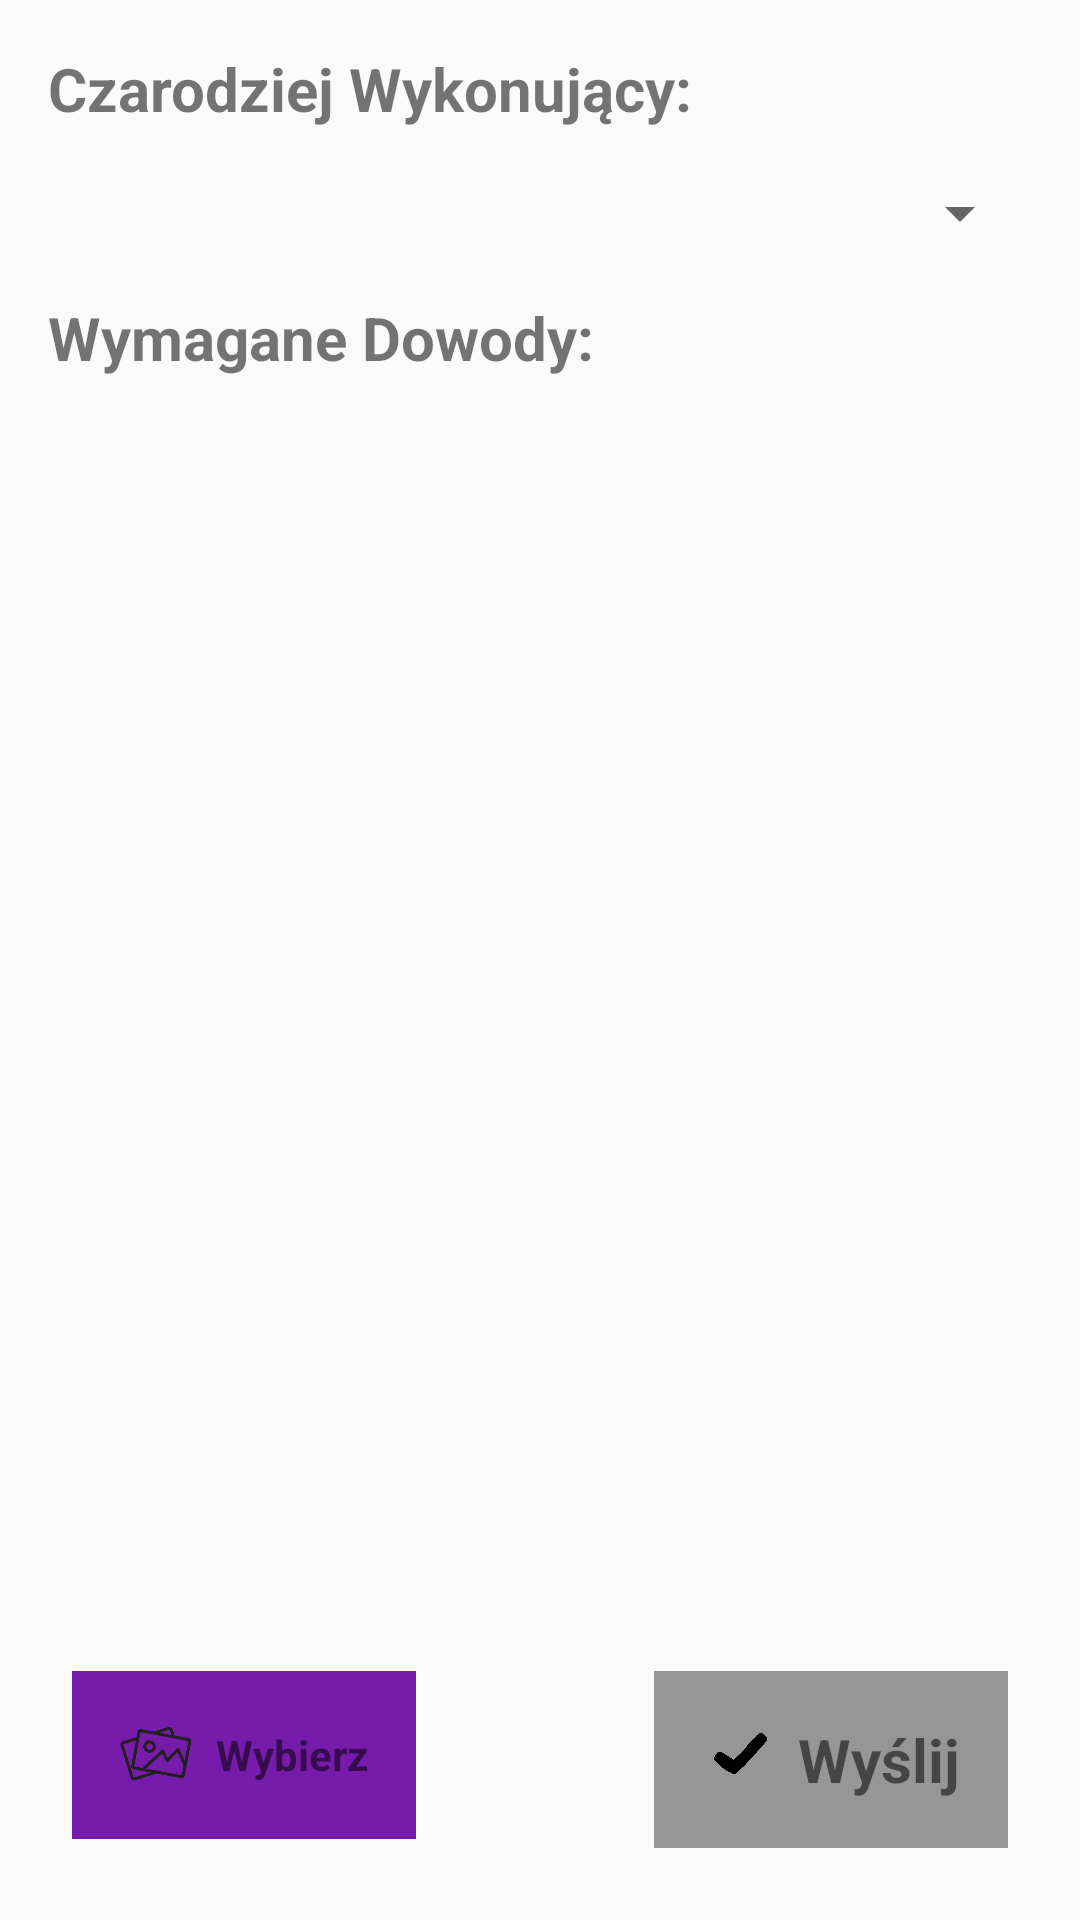

Point at icon controls on the screen. Image size 1080×1920, points as (x,y).
multimedia: (155,1754)
